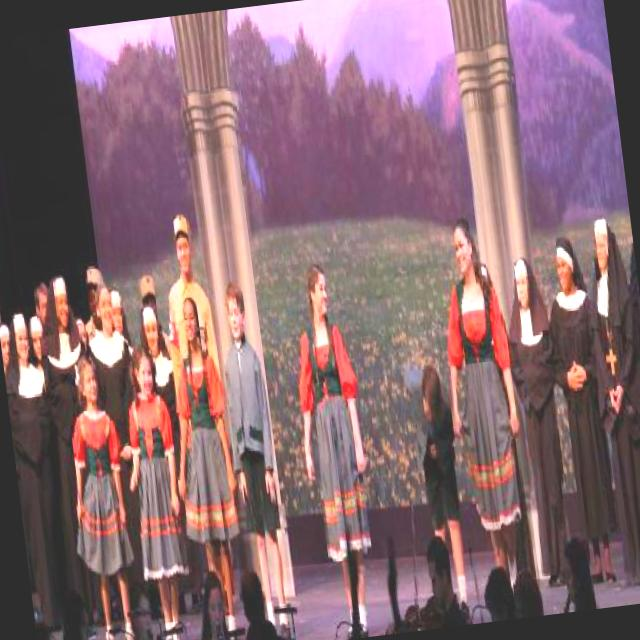Person: (0, 201, 297, 640), (385, 196, 640, 624), (278, 254, 389, 640)
